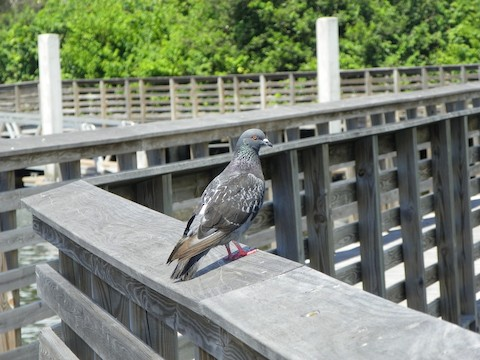pigeon: (168, 122, 274, 282)
